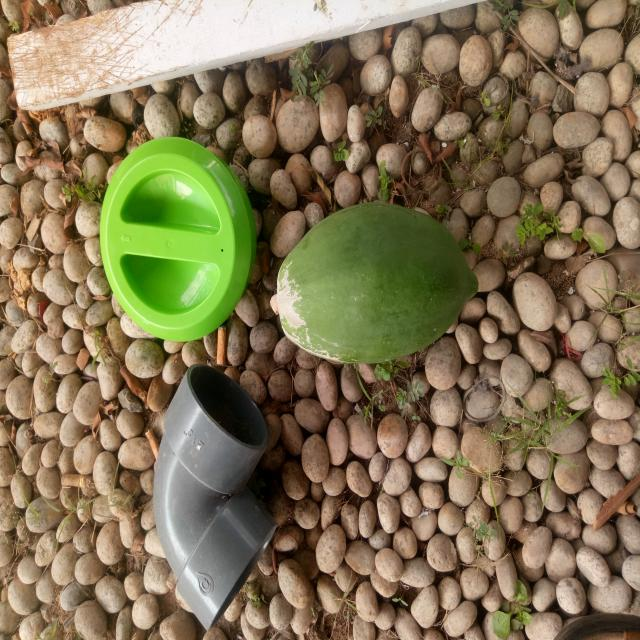Pepaya unrippen: (269, 200, 486, 377)
